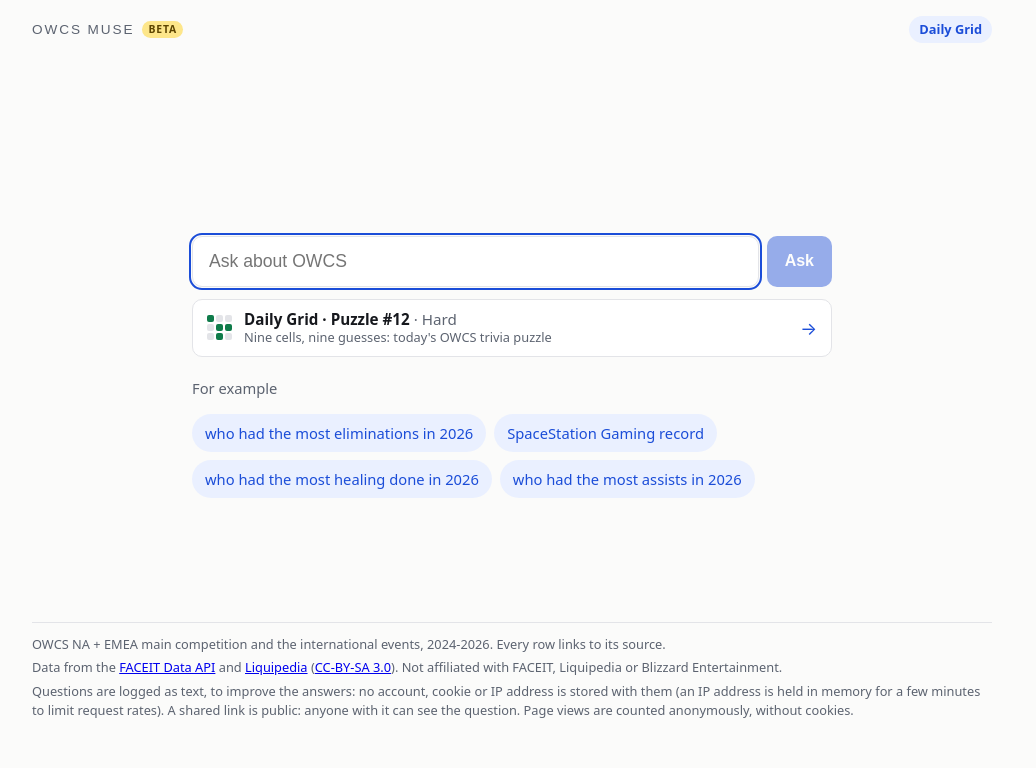
Scenario: finding Grid from Muse › leaves the search box working exactly as before
Expected: the link with test id "grid-entry" is shown, [192,299,832,357]
In the field labelled "Ask about OWCS": (475, 261) [192,236,759,287], type "Sugarfree map record against Zeruhh"
Then press Enter
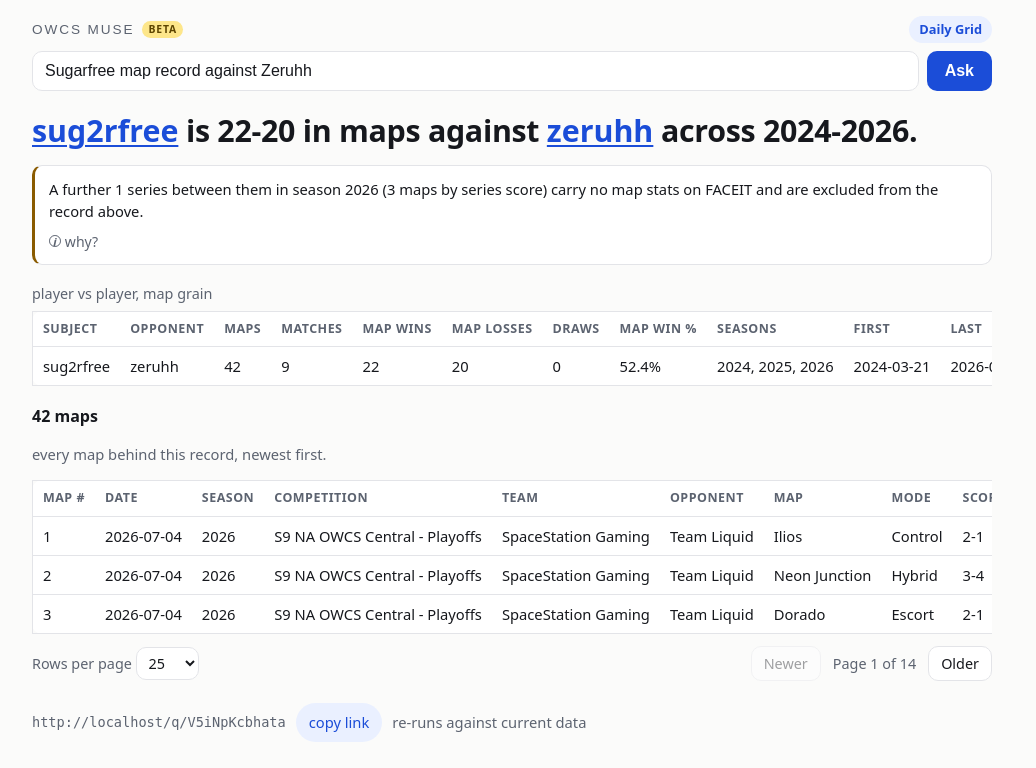
Expected: the button with test id "grid-nav" is shown, [909,16,992,43]
Now the element with test id "answer-sentence" shows "sug2rfree is 22-20 in maps", box [32,111,992,151]
Now the link with test id "grid-entry" is gone
